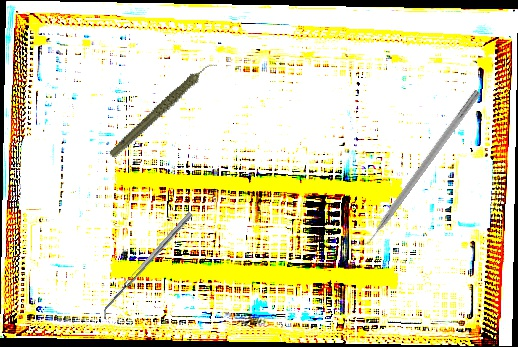Chopper: (349, 83, 482, 255)
Handpiece: (94, 60, 233, 160)
Spatula Surgical: (97, 211, 198, 321)
